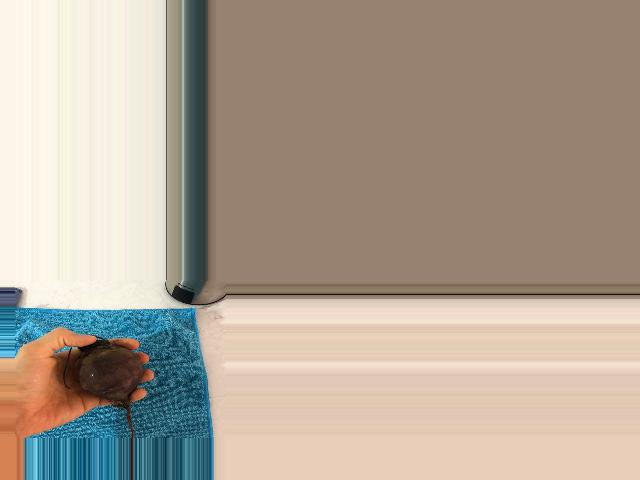beet: (64, 335, 143, 439)
